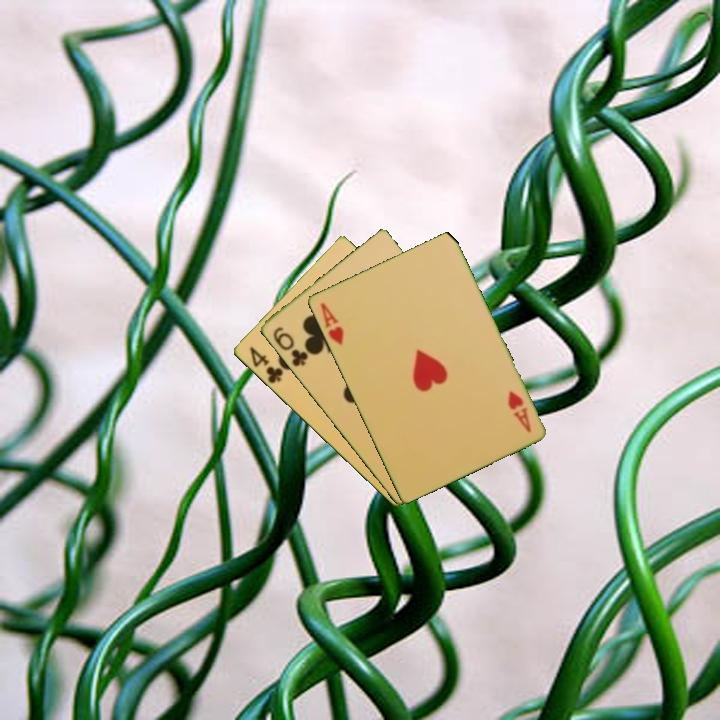4c: (245, 343, 286, 387)
6c: (269, 323, 311, 370)
Ah: (316, 299, 346, 348), (504, 387, 534, 435)
